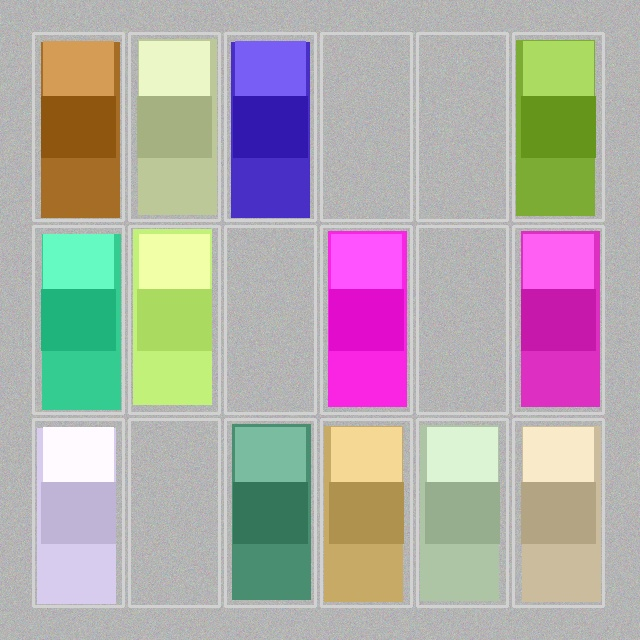space-empty: (323, 35, 409, 218), (419, 35, 505, 218), (227, 228, 313, 411), (419, 228, 505, 411), (131, 421, 217, 604)
space-occupied: (35, 35, 121, 218), (131, 35, 217, 218), (227, 35, 313, 218), (515, 35, 601, 218), (35, 228, 121, 411), (131, 228, 217, 411), (323, 228, 409, 411), (515, 228, 601, 411), (35, 421, 121, 604), (227, 421, 313, 604), (323, 421, 409, 604), (419, 421, 505, 604), (515, 421, 601, 604)
